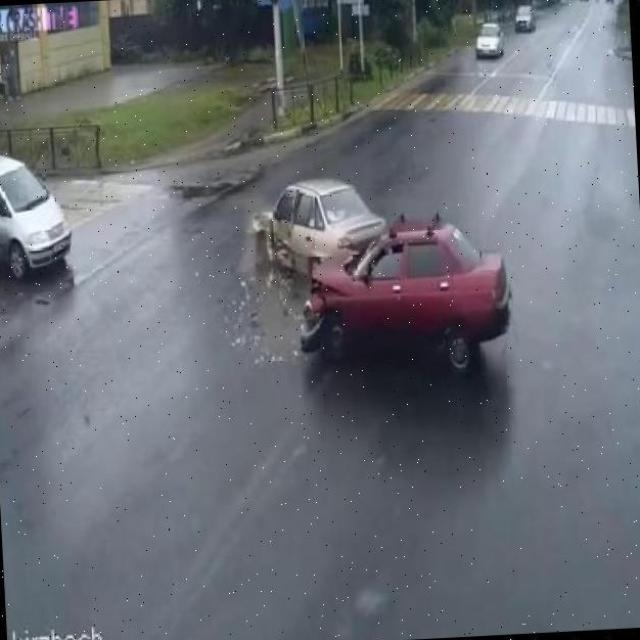accident: (254, 206, 391, 350)
